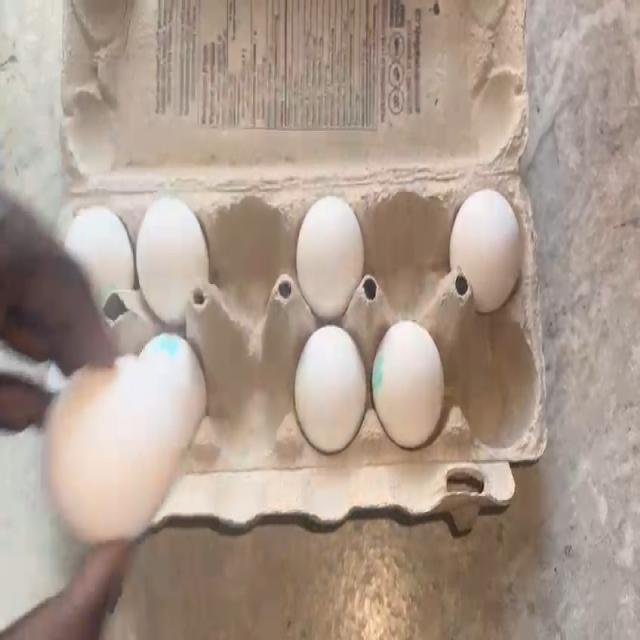Egg: (58, 372, 176, 513), (291, 188, 361, 306), (372, 336, 447, 434), (446, 194, 524, 288), (300, 336, 362, 446), (142, 200, 202, 306), (64, 194, 125, 281), (154, 314, 207, 404)
